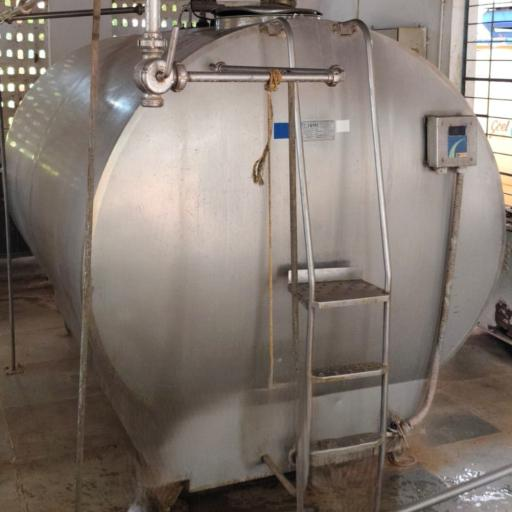silo: (3, 3, 507, 494)
